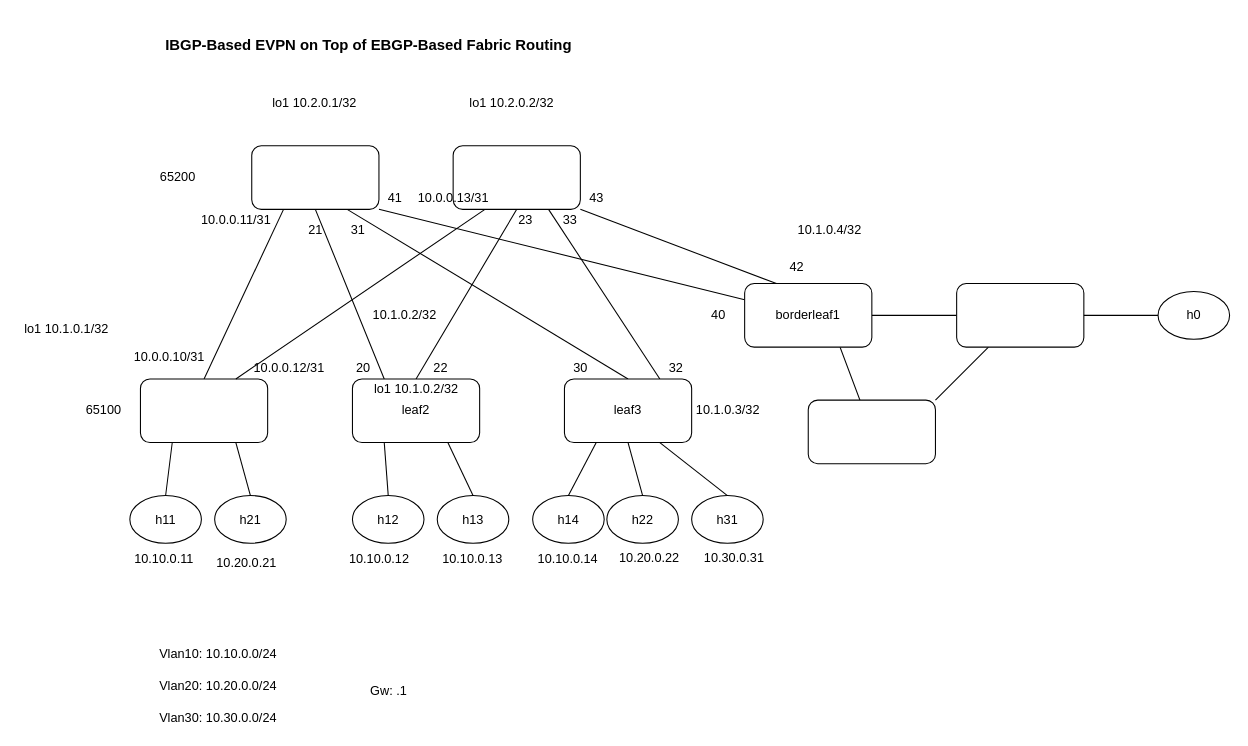
Some shapes in this 1248 by 746 pixel diagram are drawn without their labels. Each missing label, with the box of its shape:
core: (956, 282, 1084, 347)
firewall: (807, 399, 935, 464)
leaf1: (139, 378, 268, 443)
spline1: (251, 145, 379, 209)
spline2: (452, 145, 580, 209)
